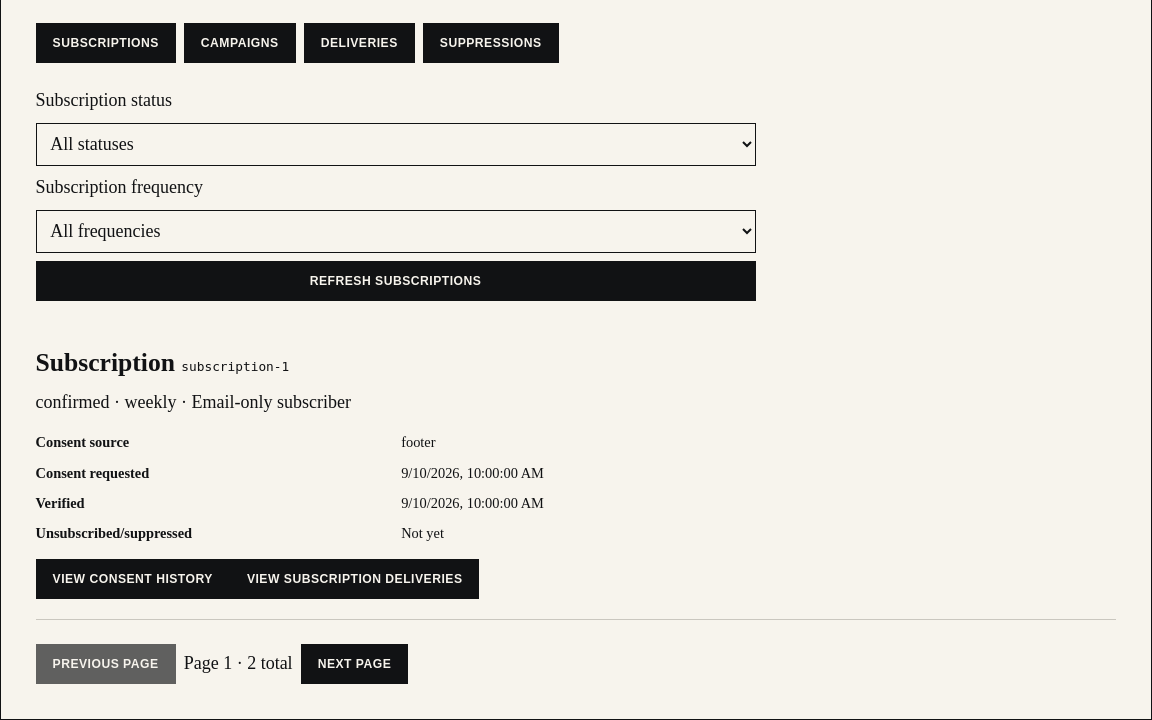
Test case: newsletter administration › filters and pages subscriptions, then opens their actual consent records
The width and height of the screenshot is (1152, 720).
(page scrolled)
Expected: the text "subscription-1" is shown, [181,359,289,374]
Step 1. Click the button "Next page" → (354,664), box [301,644,408,684]
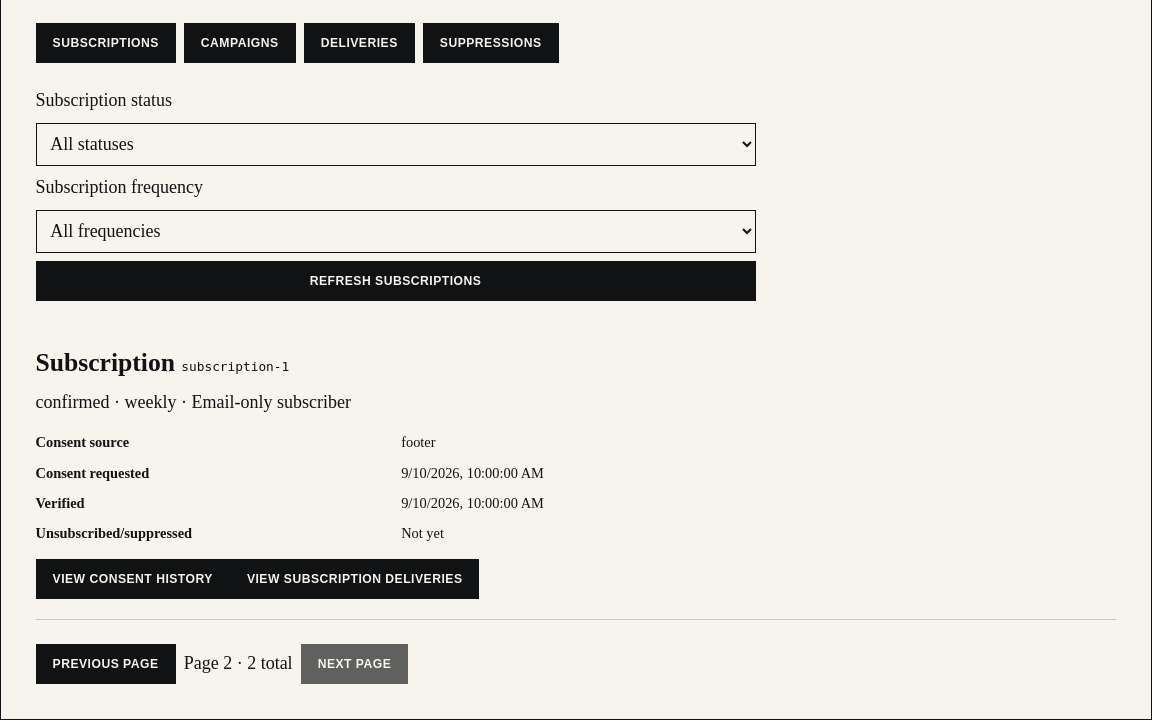
Step 2. Select "suppressed" in the dropdown labelled "Subscription status" → (396,144), box [36,123,756,166]
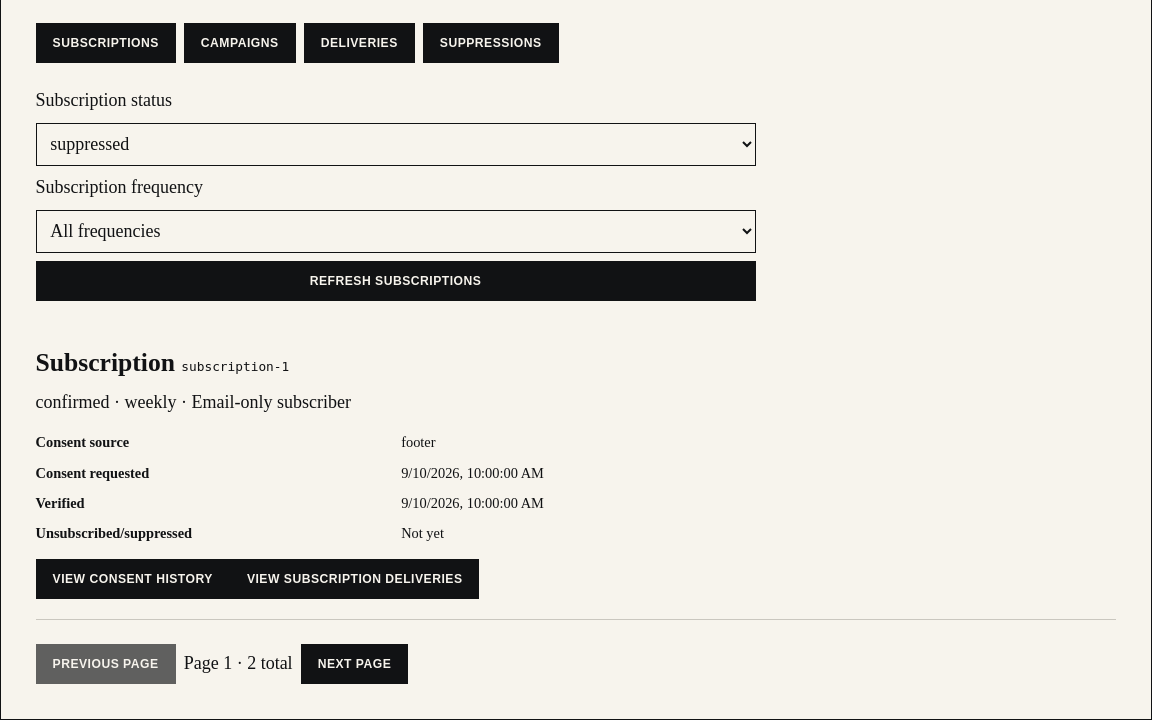
Step 3. Click the button "View consent history" → (133,579), box [36,559,230,599]
(page scrolled)
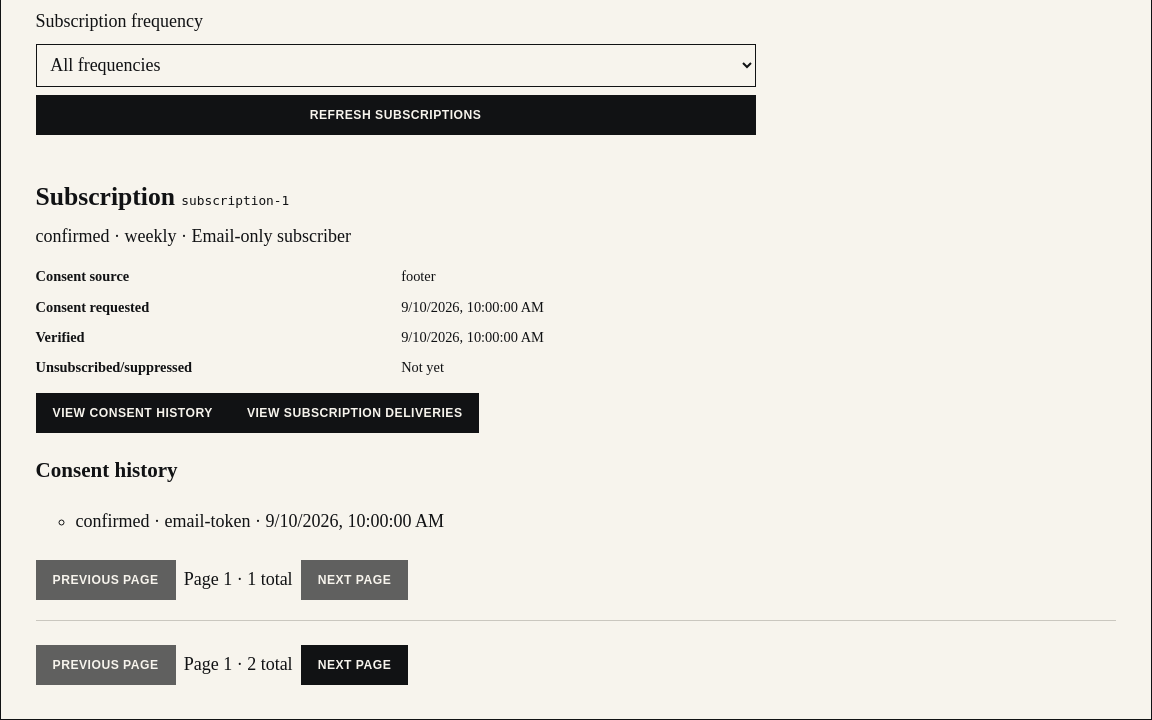
Expected: the element "Consent history" is shown, [36,458,444,600]
